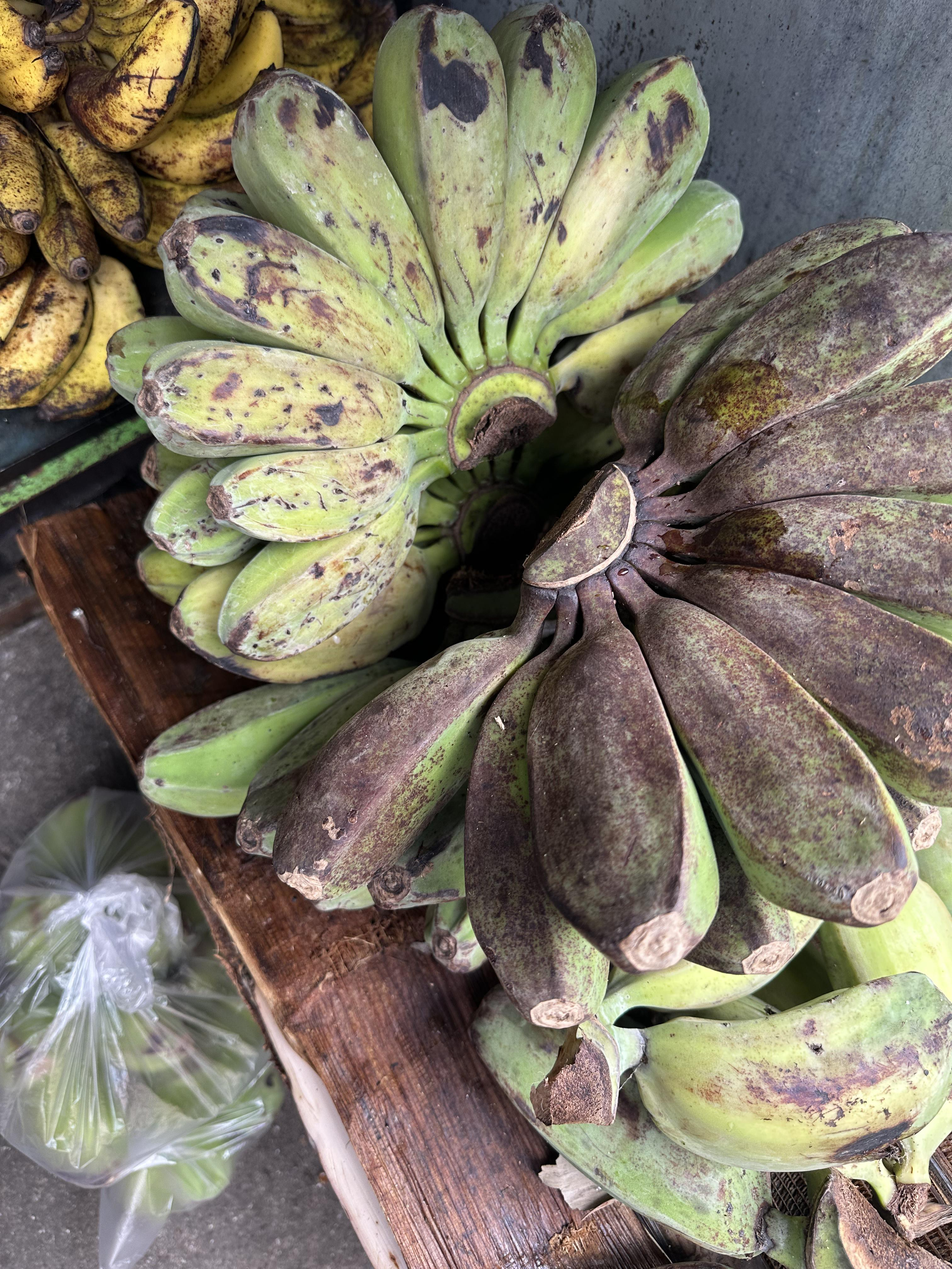underripe: (272, 217, 952, 1027), (103, 2, 743, 662)
